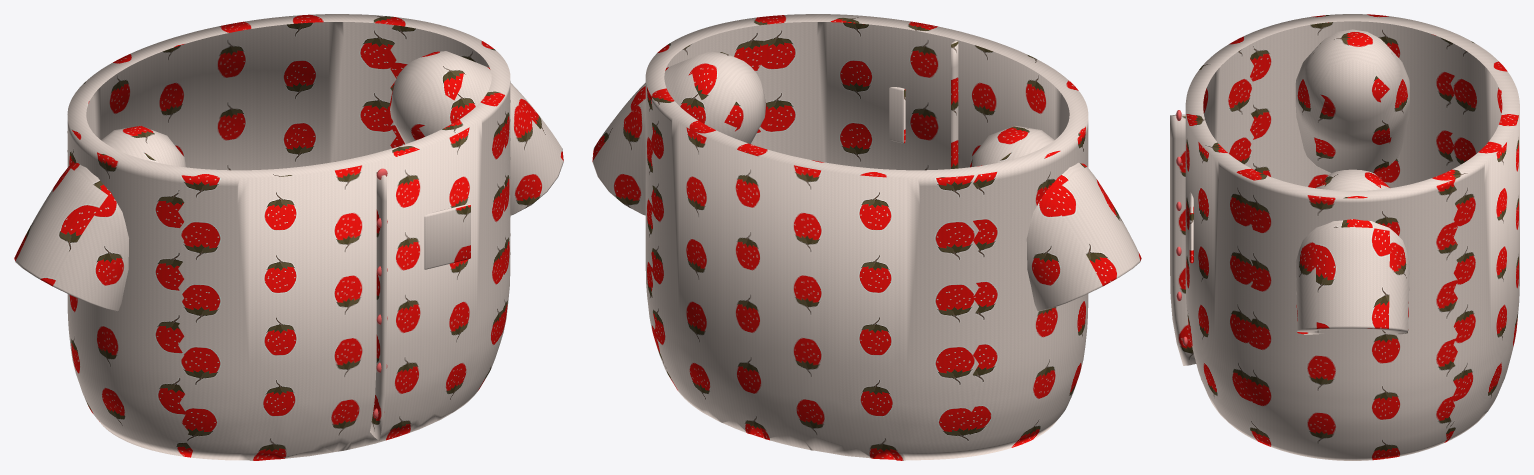
Rendered from beachshirt3.fbx.
The picture shows the model from 3 angles, left to right: view 1: azimuth 30°, elevation 25°; view 2: azimuth 150°, elevation 25°; view 3: azimuth 270°, elevation 25°; orthographic projection. The views are drawn at different scales.
Parts seen in each view (by area): view 1: beachshirt3; view 2: beachshirt3; view 3: beachshirt3.
Boxes of the visible parts, x1,y1,x2,y2 form: beachshirt3: (14, 14, 563, 460); beachshirt3: (592, 14, 1141, 460); beachshirt3: (1170, 14, 1519, 460).
Bounding box in the file's own units: 1.11 × 0.589 × 0.6785.
Materials: 2 (1 with a texture image).
